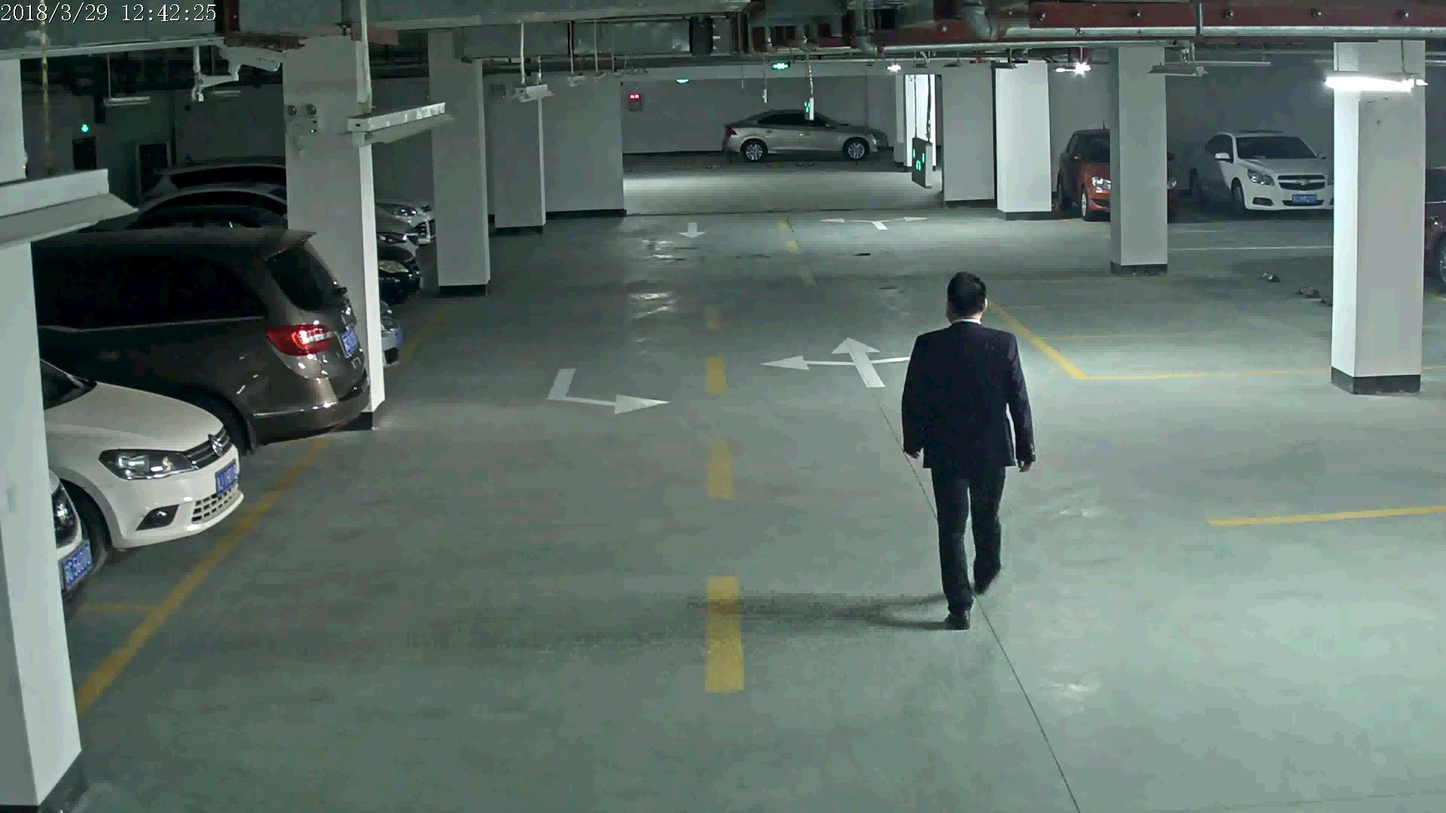person: (899, 267, 1039, 640)
